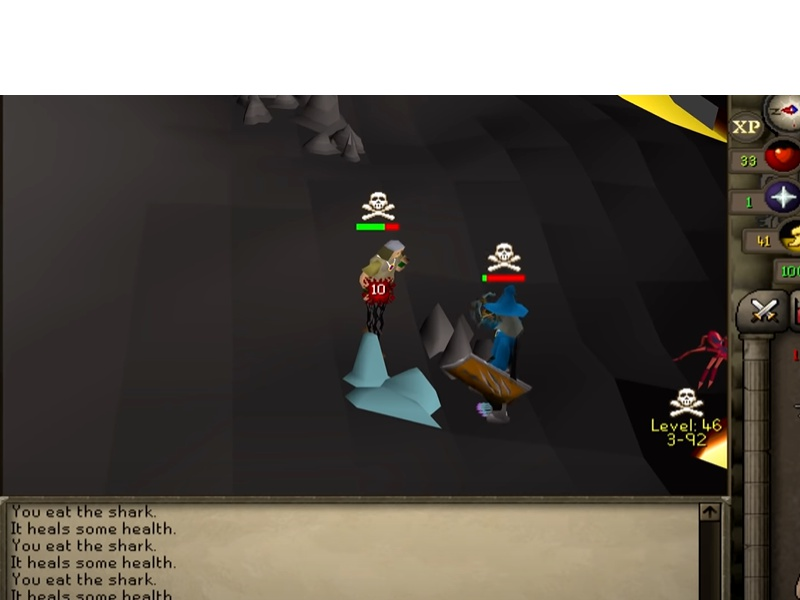rune: (337, 329, 447, 434)
